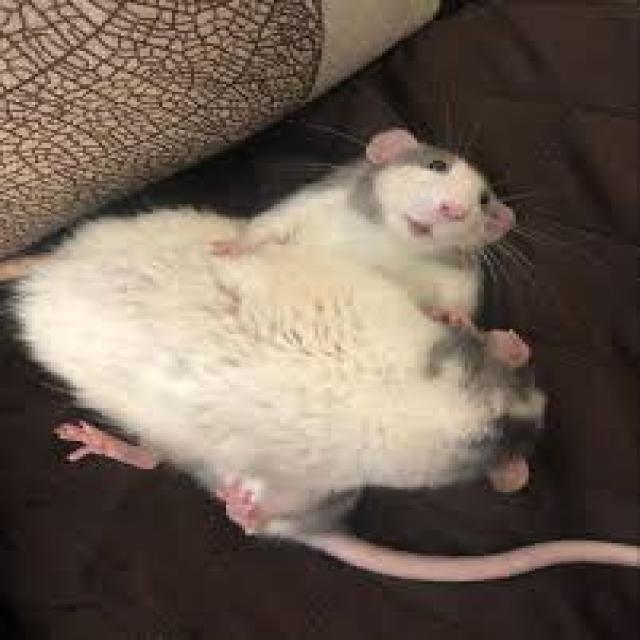Rat: (6, 154, 574, 506)
